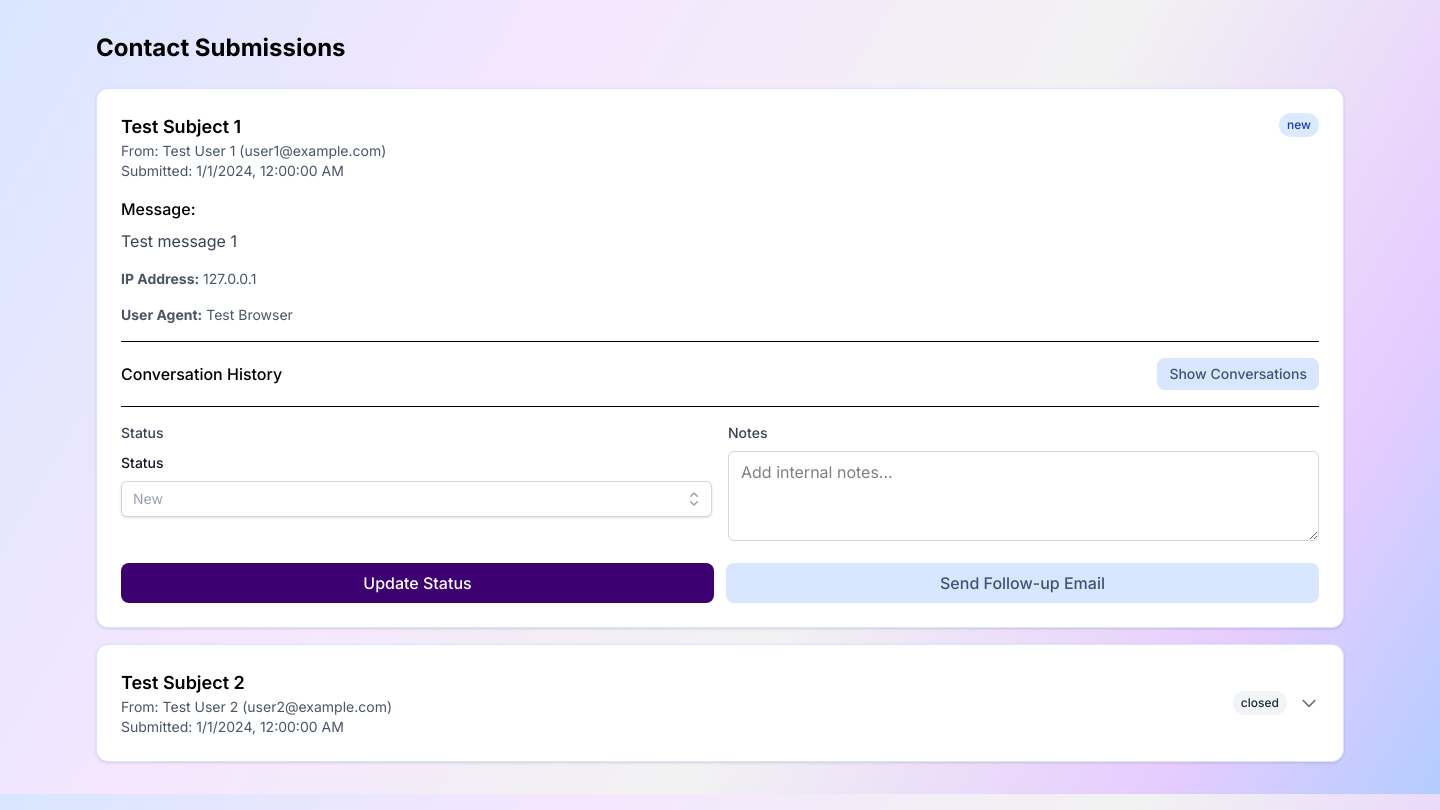
ContactSubmissionsClient › should expand closed submissions when clicked
The image size is (1440, 810).
Click the text "Test Subject 2": coordinates (256, 704) x1=121 y1=672 x2=392 y2=735
(page scrolled)
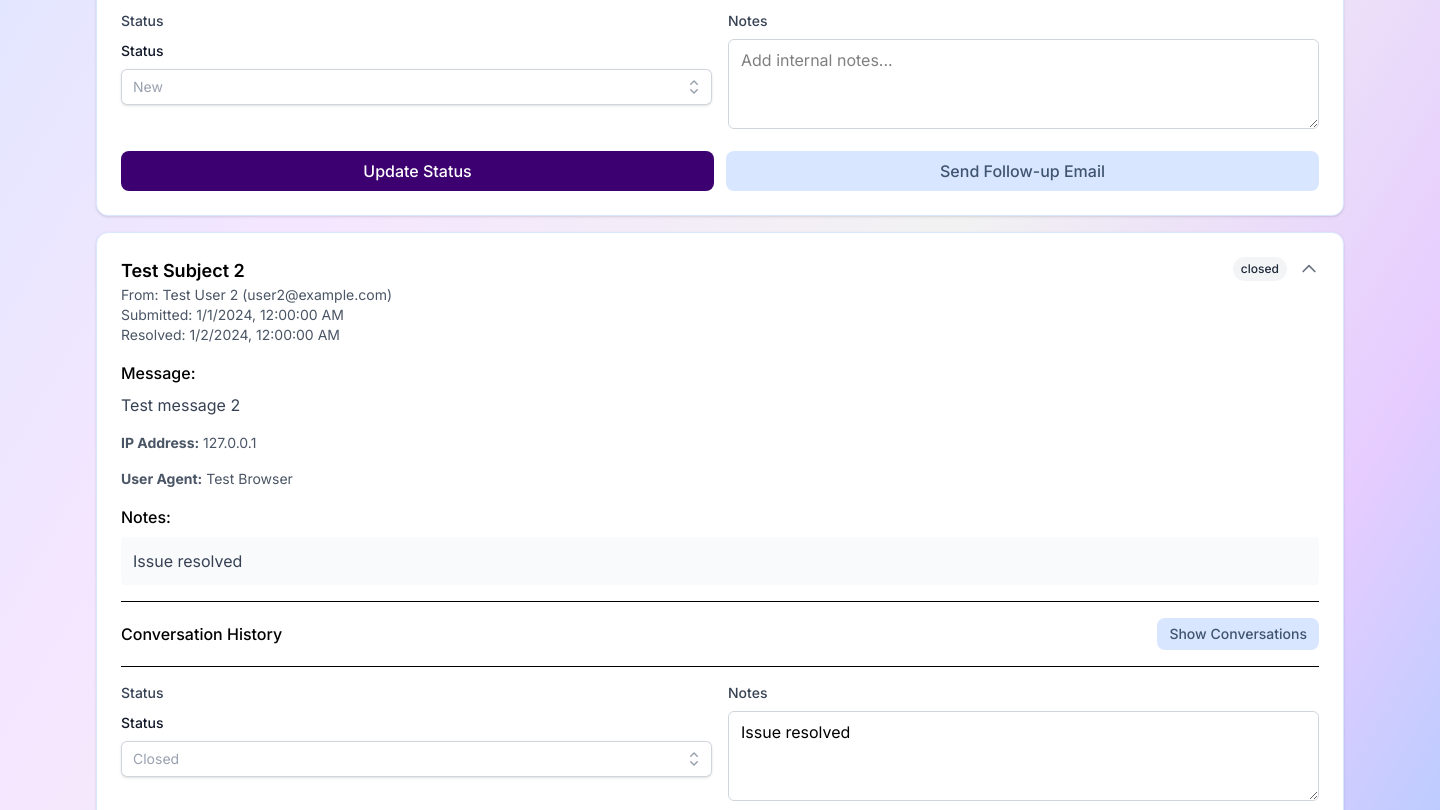
Result: the text "Test message 2" is shown at x1=121 y1=395 x2=240 y2=415
